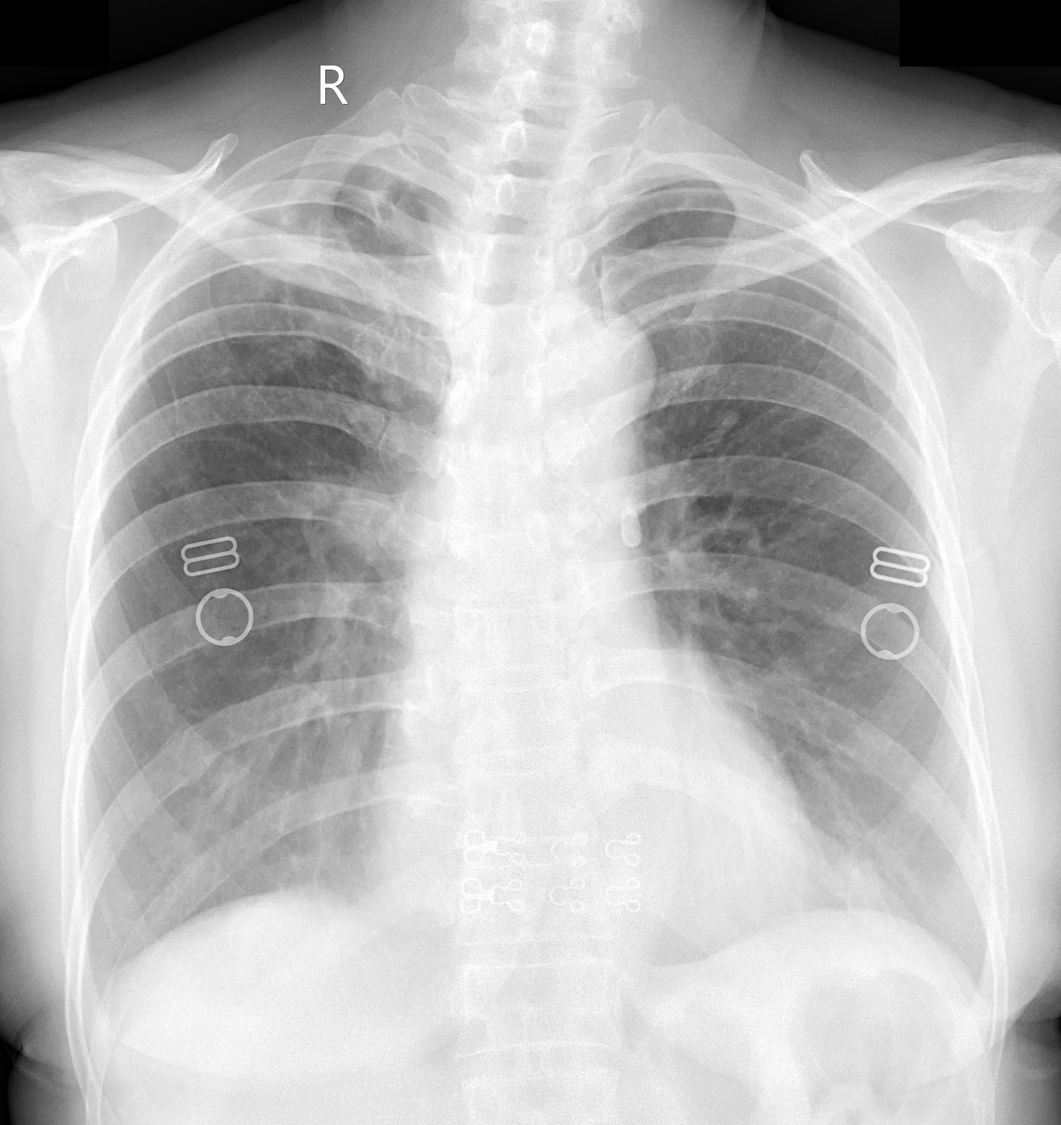Pulmonary fibrosis: (243, 170, 393, 326)
